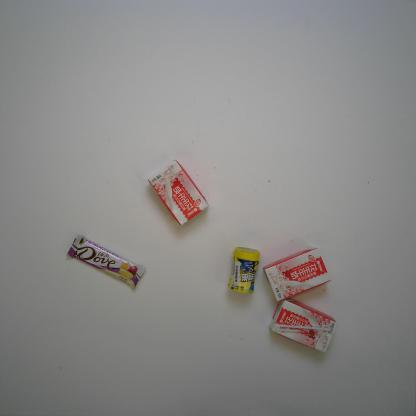Chocolate: (65, 232, 147, 290)
Gum: (225, 243, 263, 297)
Milk: (145, 158, 209, 227), (260, 244, 332, 305), (267, 296, 337, 357)
